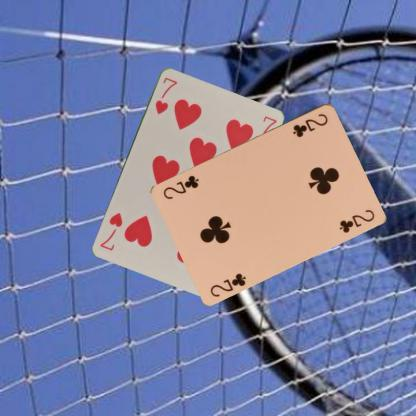2c: (290, 110, 329, 139), (208, 270, 248, 298)
7h: (152, 74, 178, 116)
